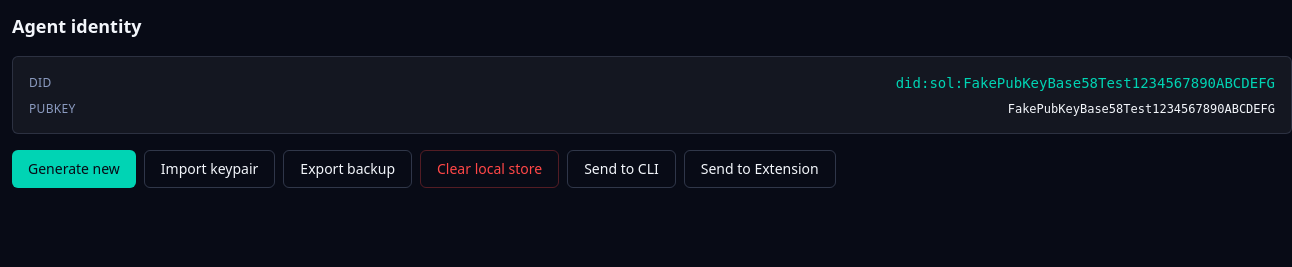
IdentityPanel › send_to_cli_malformed_local_identity_shows_error_no_fetch
The image size is (1292, 267).
Click the button with test id "identity-send-to-cli".
click(622, 169)  # box x1=567 y1=150 x2=676 y2=188
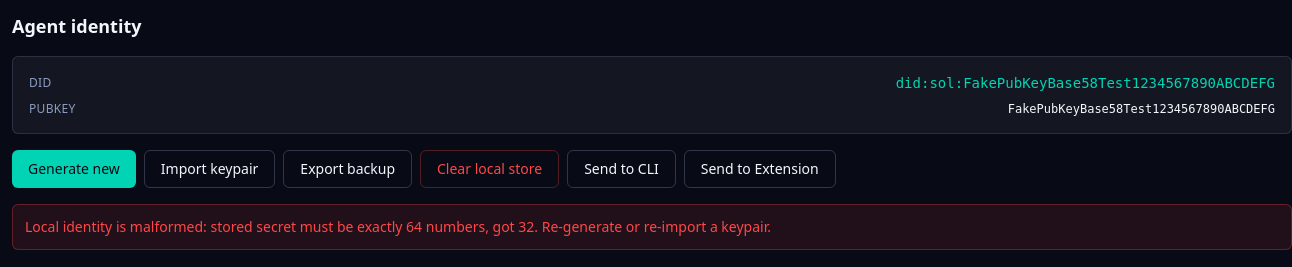
Check: the message with test id "identity-cli-error" shows "Local identity is malformed", box x1=25 y1=217 x2=771 y2=236
